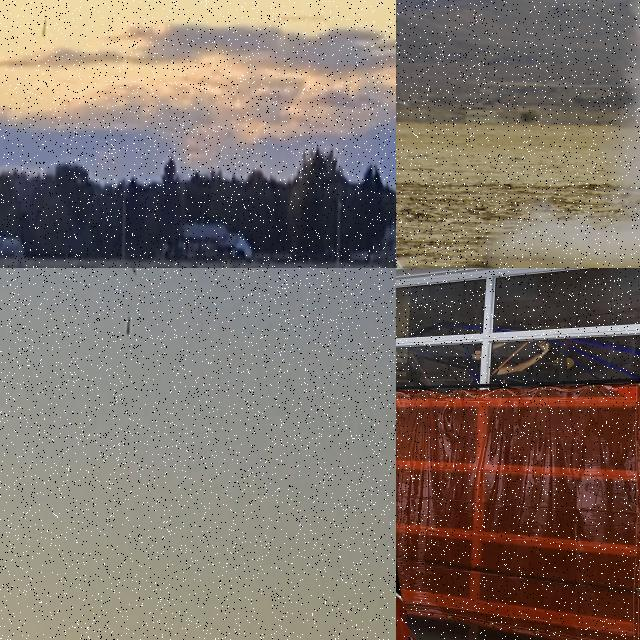Rocket: (126, 316, 131, 335), (42, 19, 46, 37)
